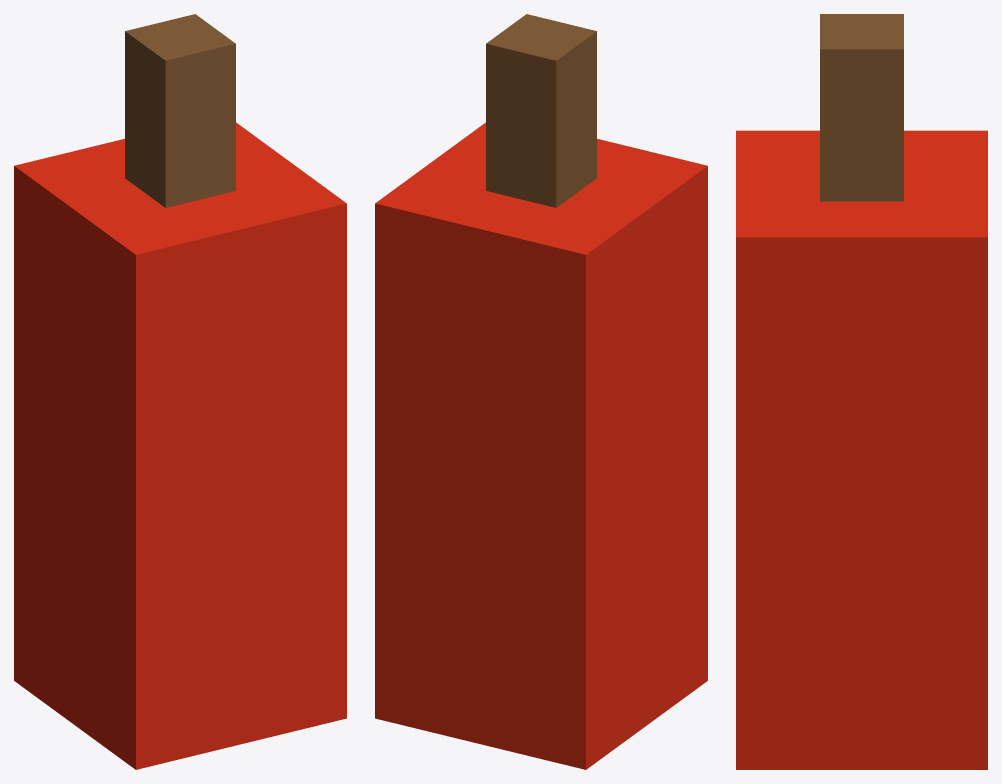
File: Svecha.obj
3 renders of one model, left to right at view 1: azimuth 30°, elevation 25°; view 2: azimuth 150°, elevation 25°; view 3: azimuth 270°, elevation 25°, orthographic. The views are drawn at different scales.
Size of the model in its own units: 0.3 by 0.9 by 0.3.
1 material, 1 textured.
